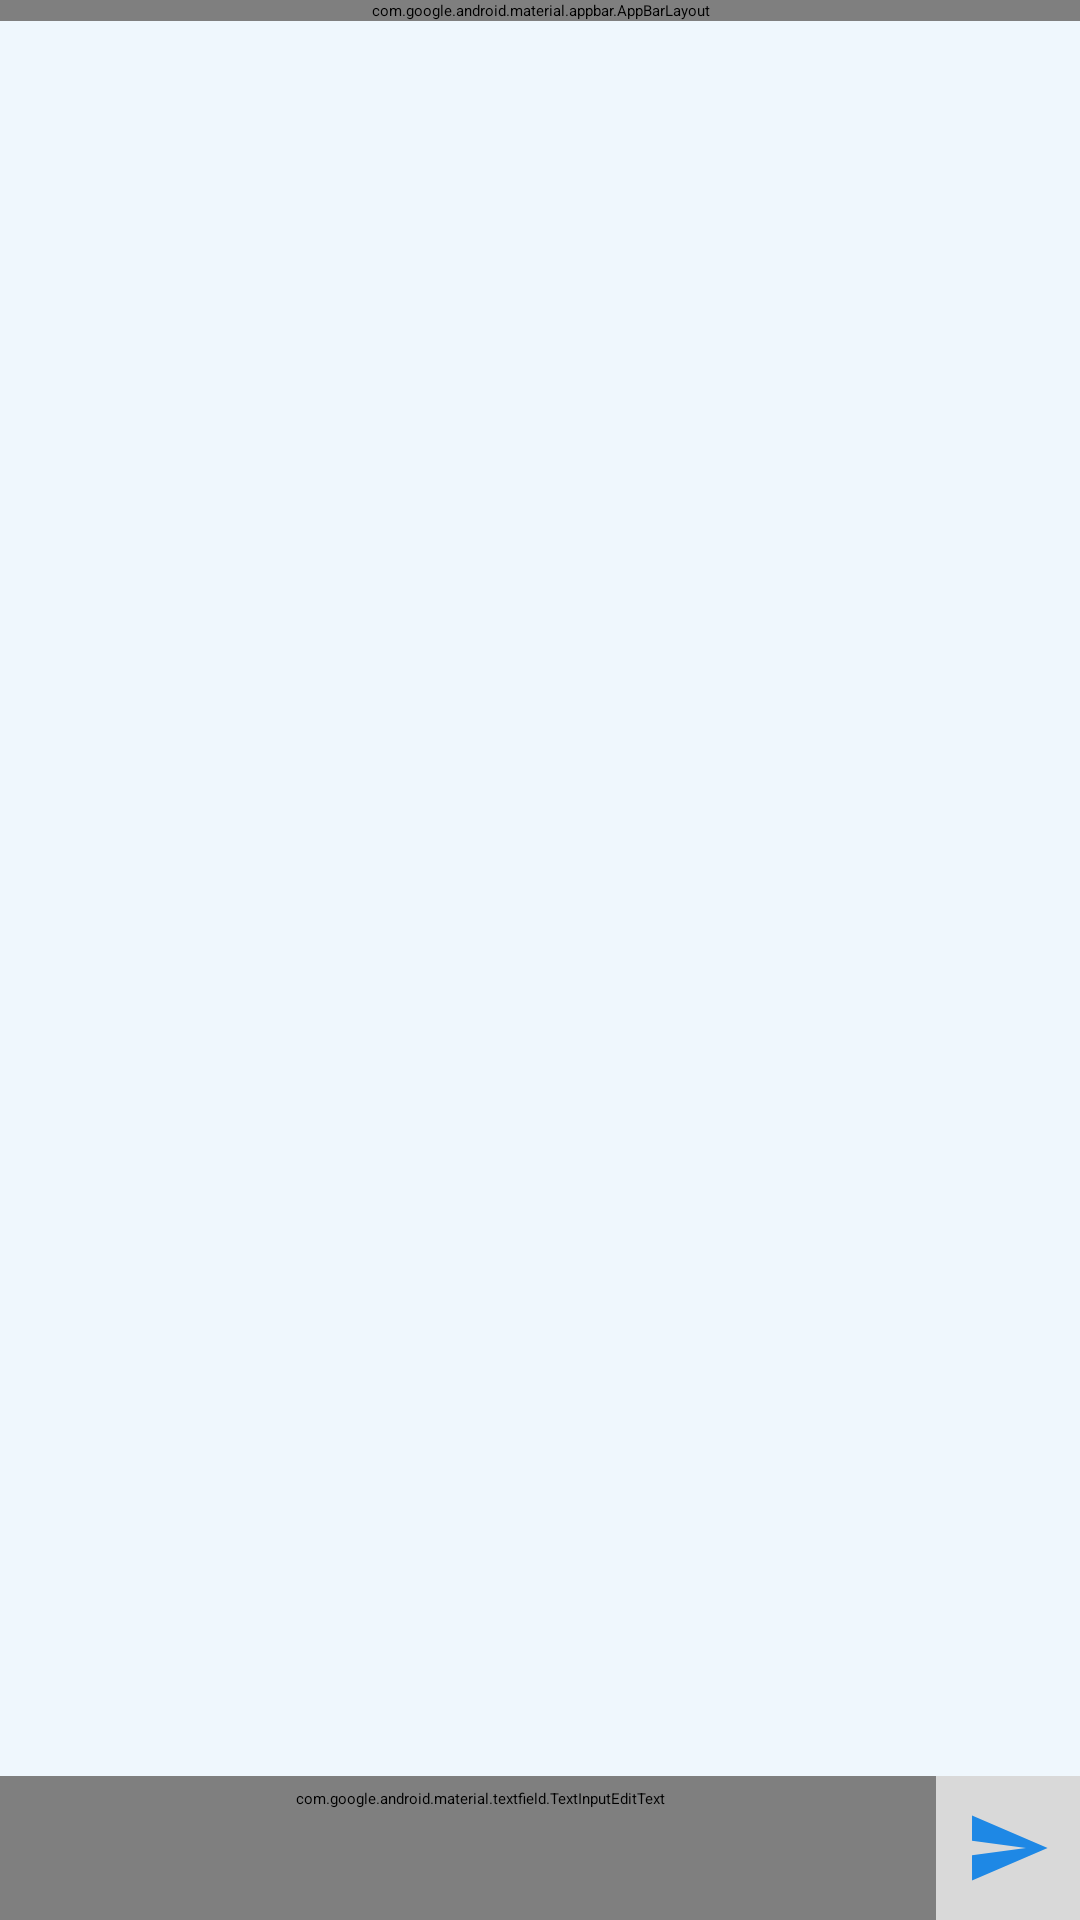

Icon click points for this 1080 x 1920 phone screenshot, format (x=x, y=y):
send: (x=1008, y=1848)
